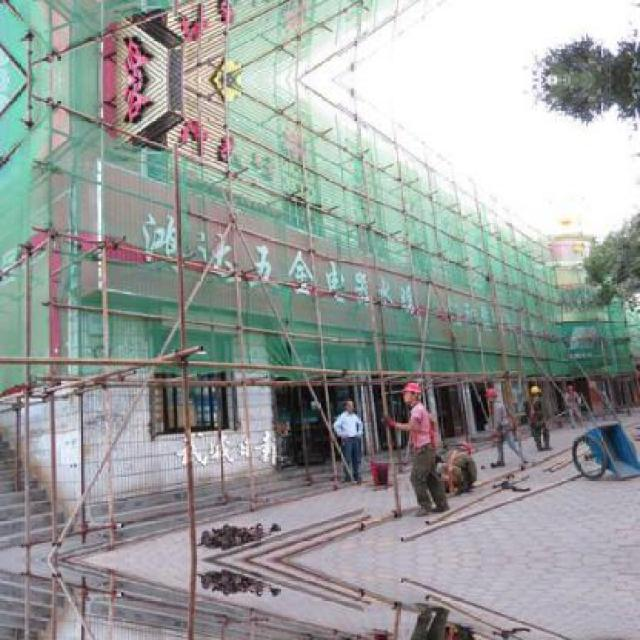helmet: (397, 378, 425, 407), (454, 439, 475, 456), (486, 385, 502, 403)
